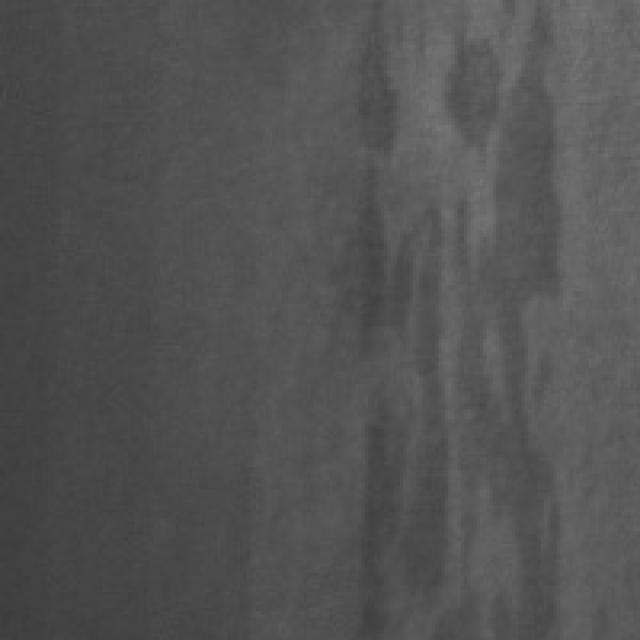inclusion: (346, 7, 572, 630)
